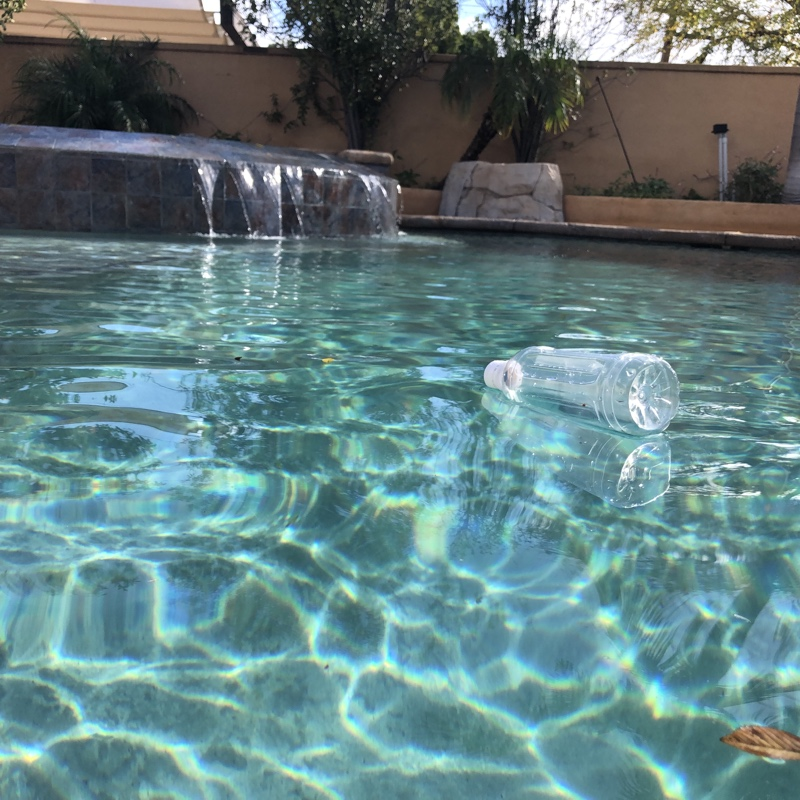Plastic Bottle: (472, 338, 684, 441)
